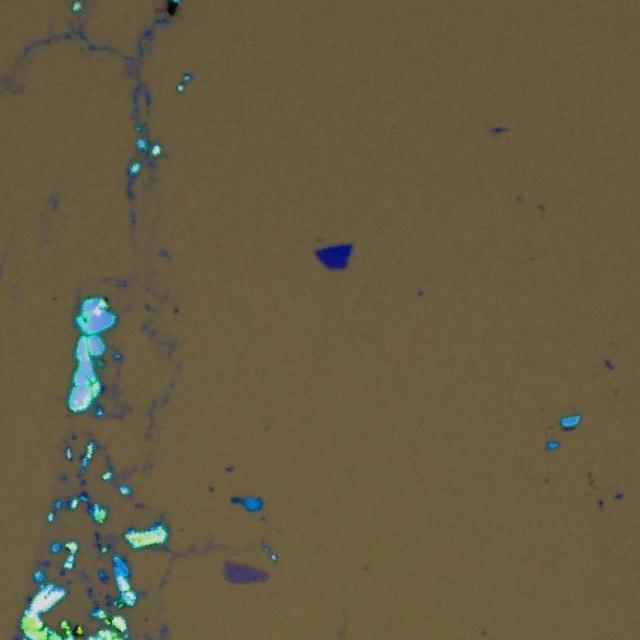monolayer-eWW4: (224, 558, 269, 584)
